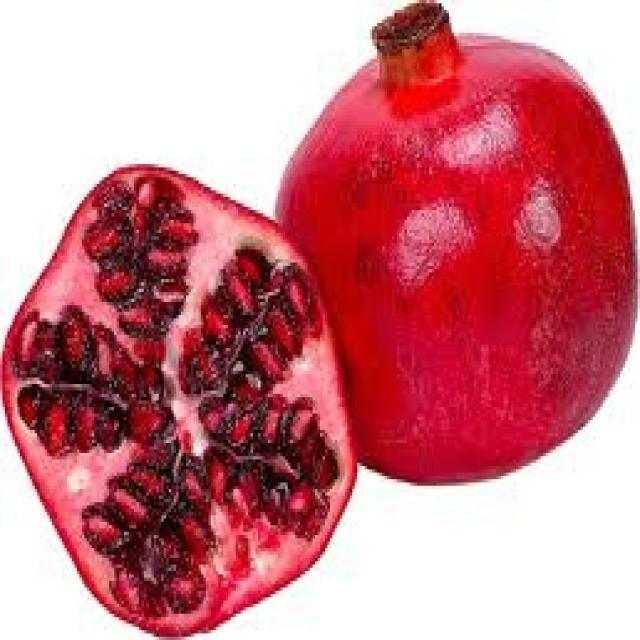Pomegranate: (2, 151, 370, 630)
